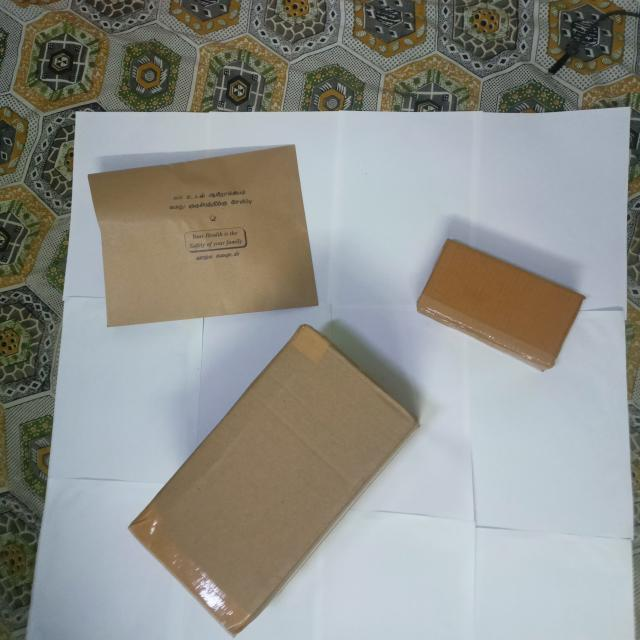box: (129, 326, 419, 639), (88, 143, 322, 328), (417, 238, 587, 375)
